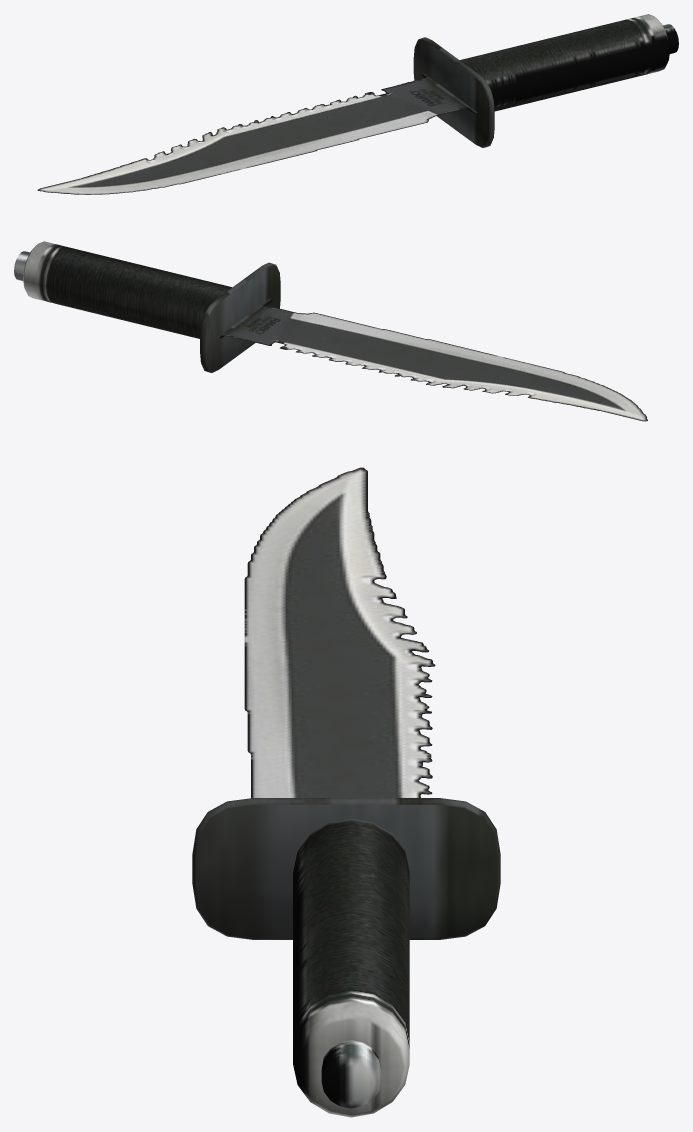
Rendered from knife.FBX.
The picture shows the model from 3 angles, top to bottom: view 1: azimuth 30°, elevation 25°; view 2: azimuth 150°, elevation 25°; view 3: azimuth 270°, elevation 25°; orthographic projection. The views are drawn at different scales.
Visible parts, largest first — view 1: knife; view 2: knife; view 3: knife.
Boxes of the visible parts, x1,y1,x2,y2 form: knife: (37,14,678,194); knife: (14,241,647,421); knife: (192,467,500,1117).
Bounding box in the file's own units: 474 × 100 × 50.
Materials: 1 (1 with a texture image).
